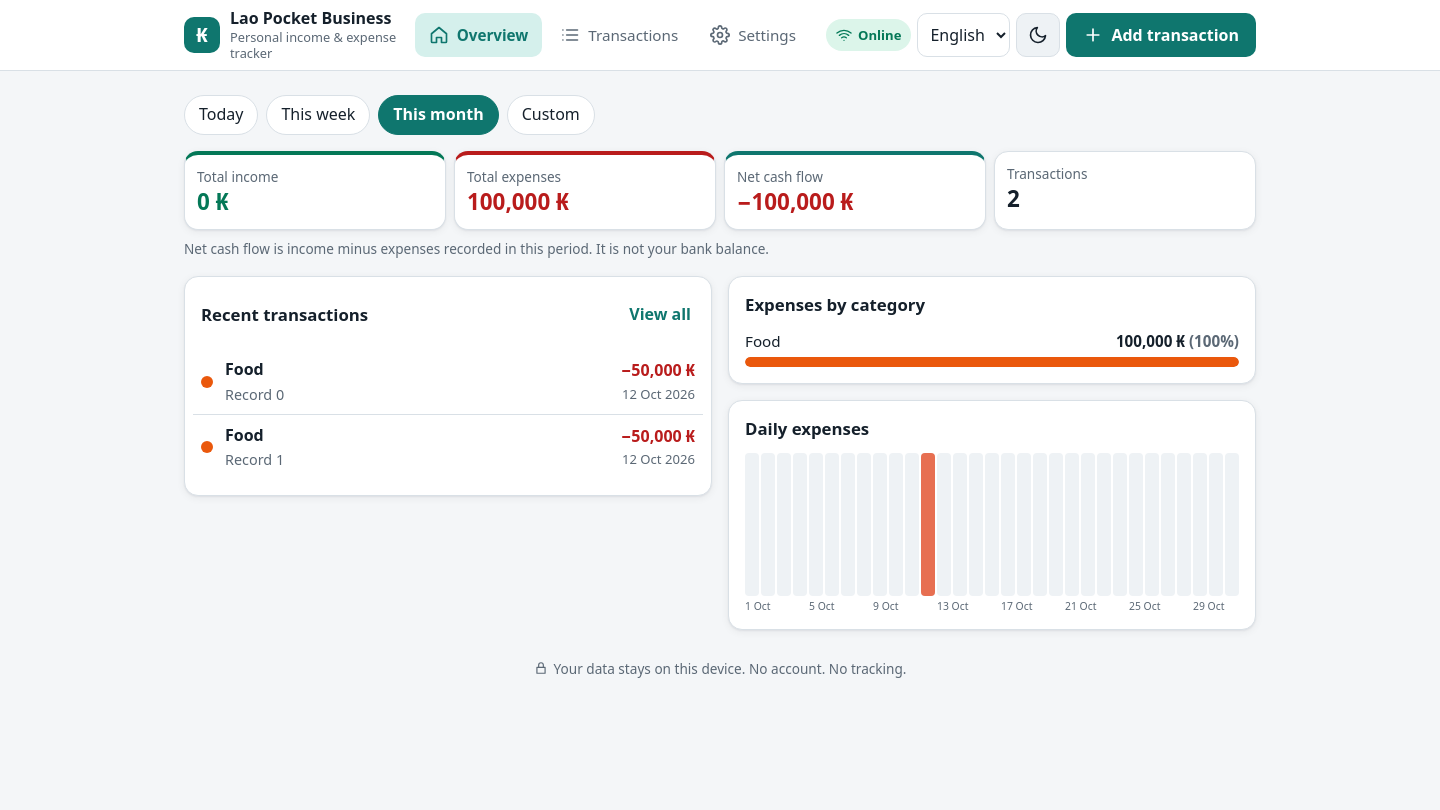
Test case: reminder actions › "Delete all data" resets the reminder
Click the button "Settings" at (753, 35), box [696,13,810,57]
(page scrolled)
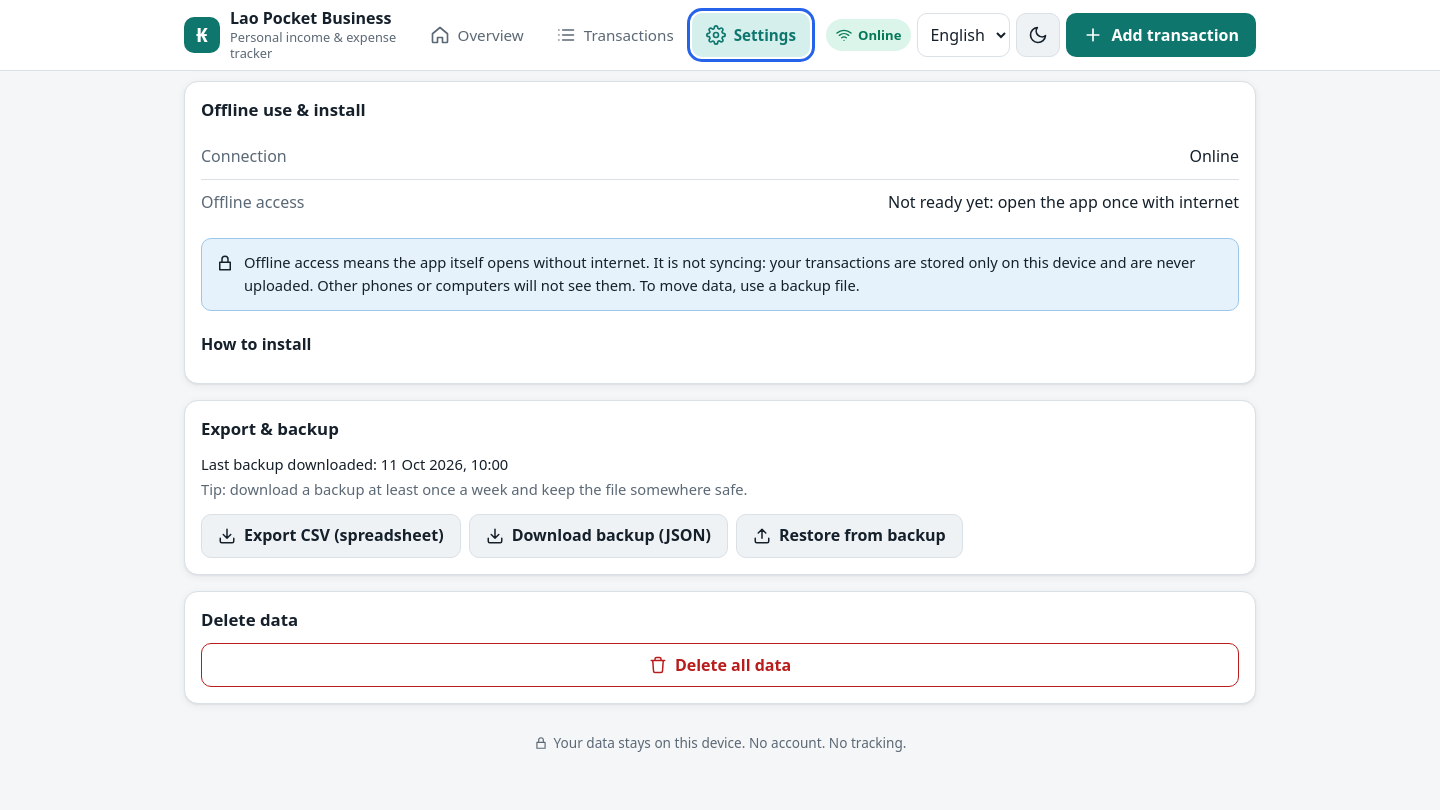
Click the button "Delete all data" at (720, 665), box [201,643,1239,687]
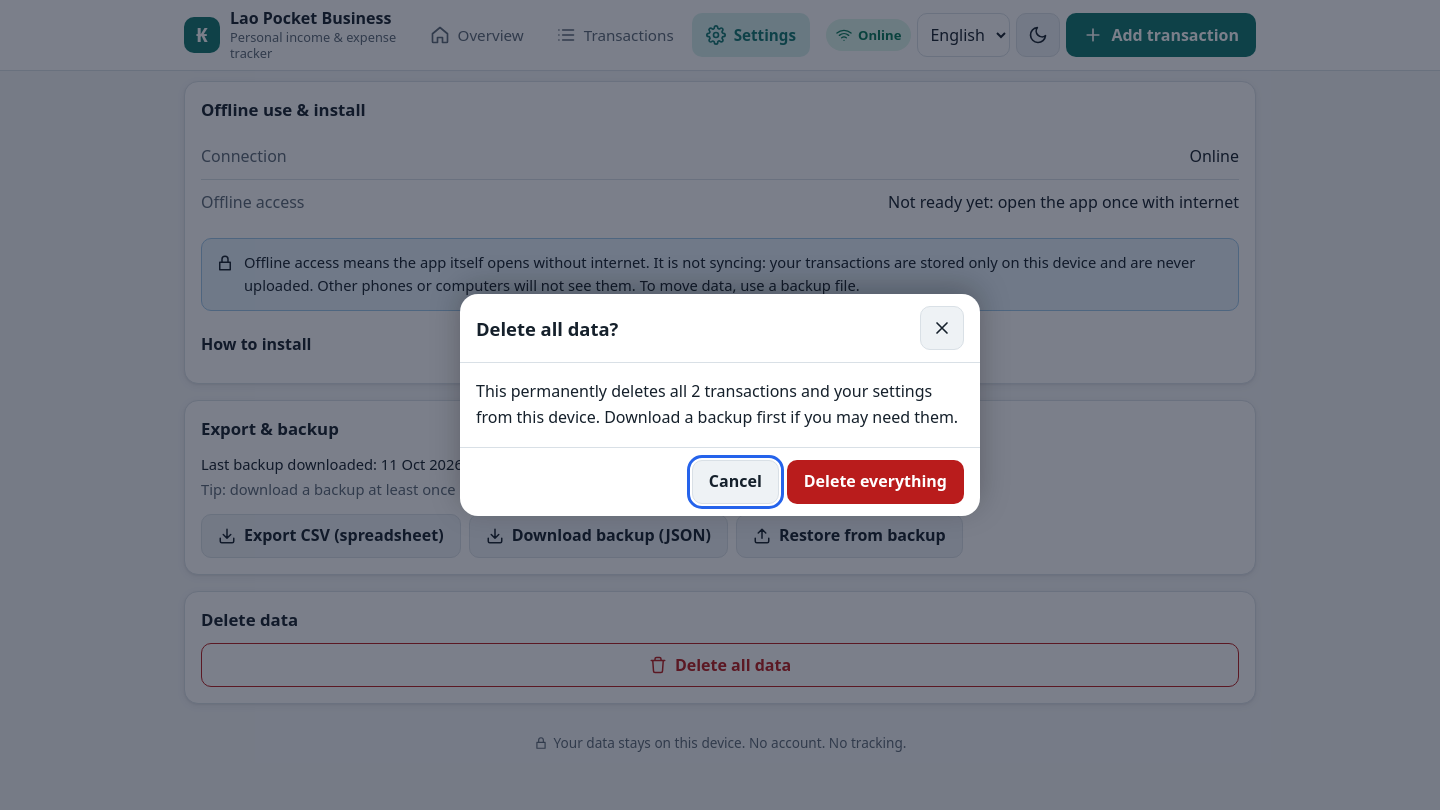
Click the button "Delete everything" at (875, 482), box [787,460,964,504]
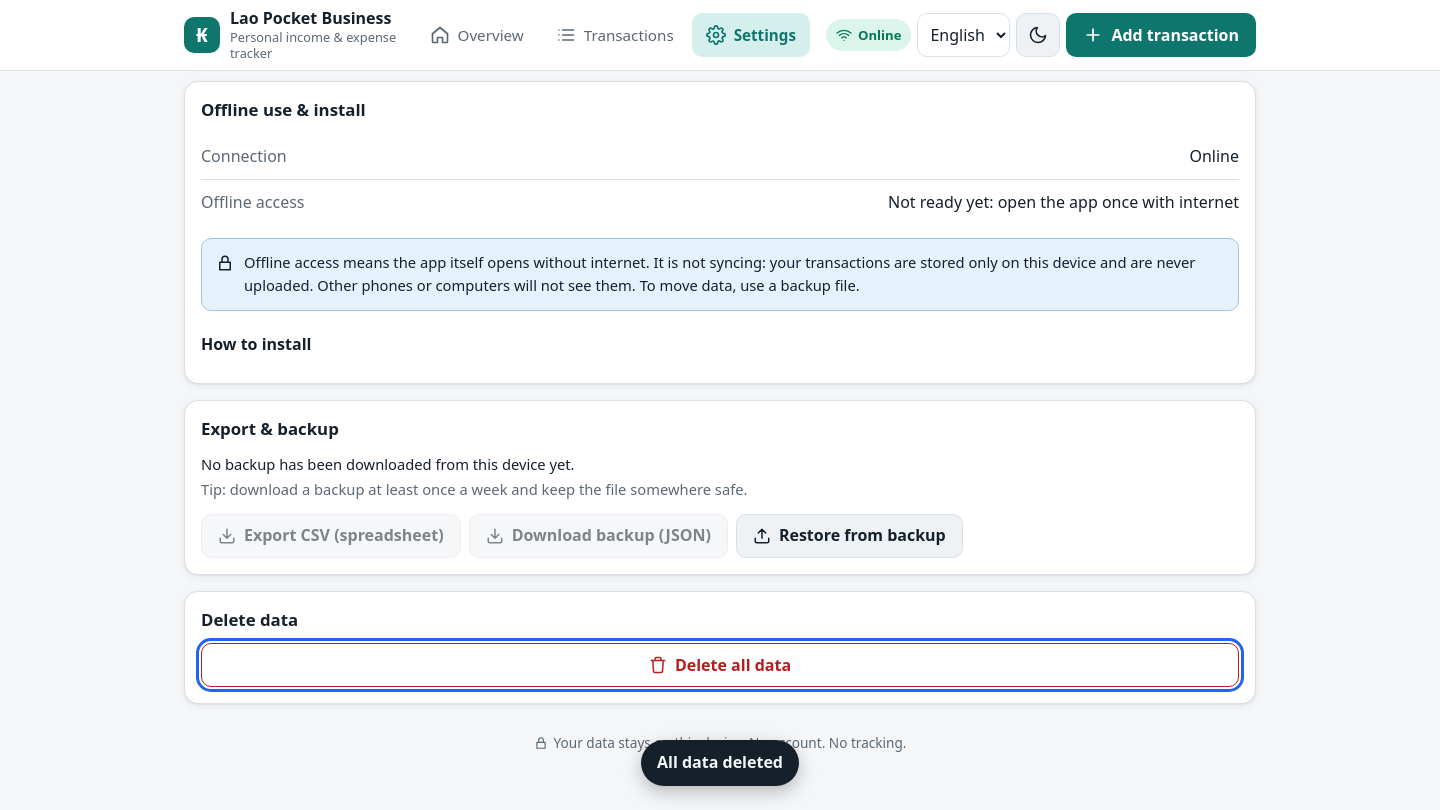
Now the element with test id "backup-status" shows "No backup has been downloaded", box [201,454,574,474]
